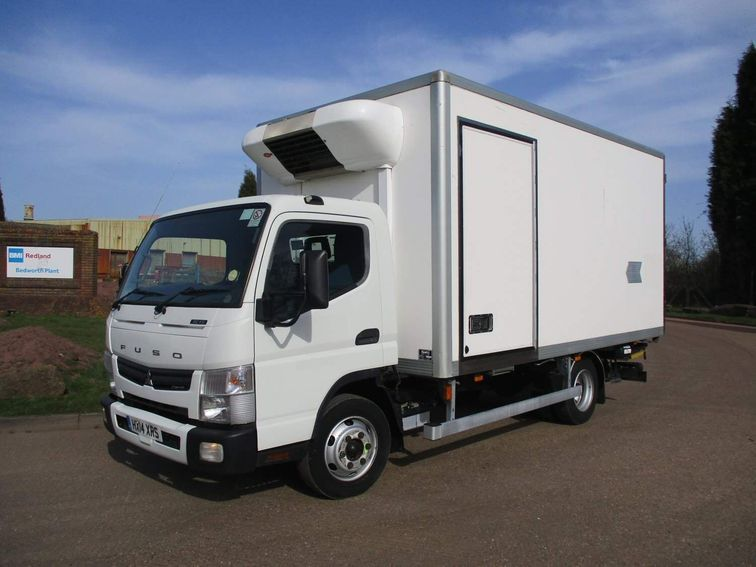Semi: (101, 69, 664, 500)
